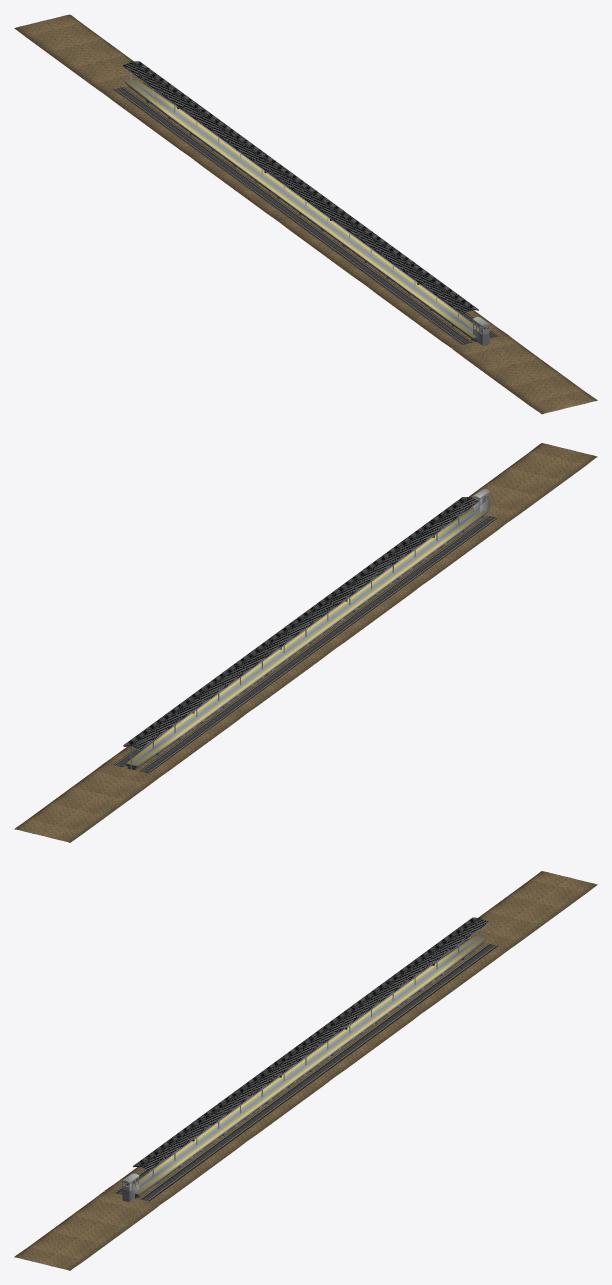
The model's file is NAKATU_ST.glb.
3 views of the same model, one above another, from view 1: azimuth 30°, elevation 25°; view 2: azimuth 150°, elevation 25°; view 3: azimuth 330°, elevation 25° (orthographic).
Parts seen in each view (by area): view 1: obj2; view 2: obj2; view 3: obj2.
Part boxes in pixels (x1,y1,x2,y2): obj2: [14, 14, 597, 414]; obj2: [14, 443, 597, 842]; obj2: [14, 871, 597, 1270].
Bounding box in the file's own units: 37.25 × 16.23 × 605.
Materials: 11 (10 with a texture image).
